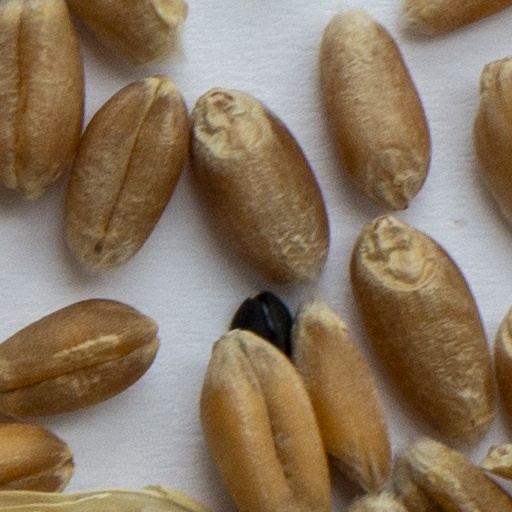Fallopia-Convolvulus-poly: (232, 292, 290, 351)
Wheat-grain-poly: (0, 0, 80, 198)
